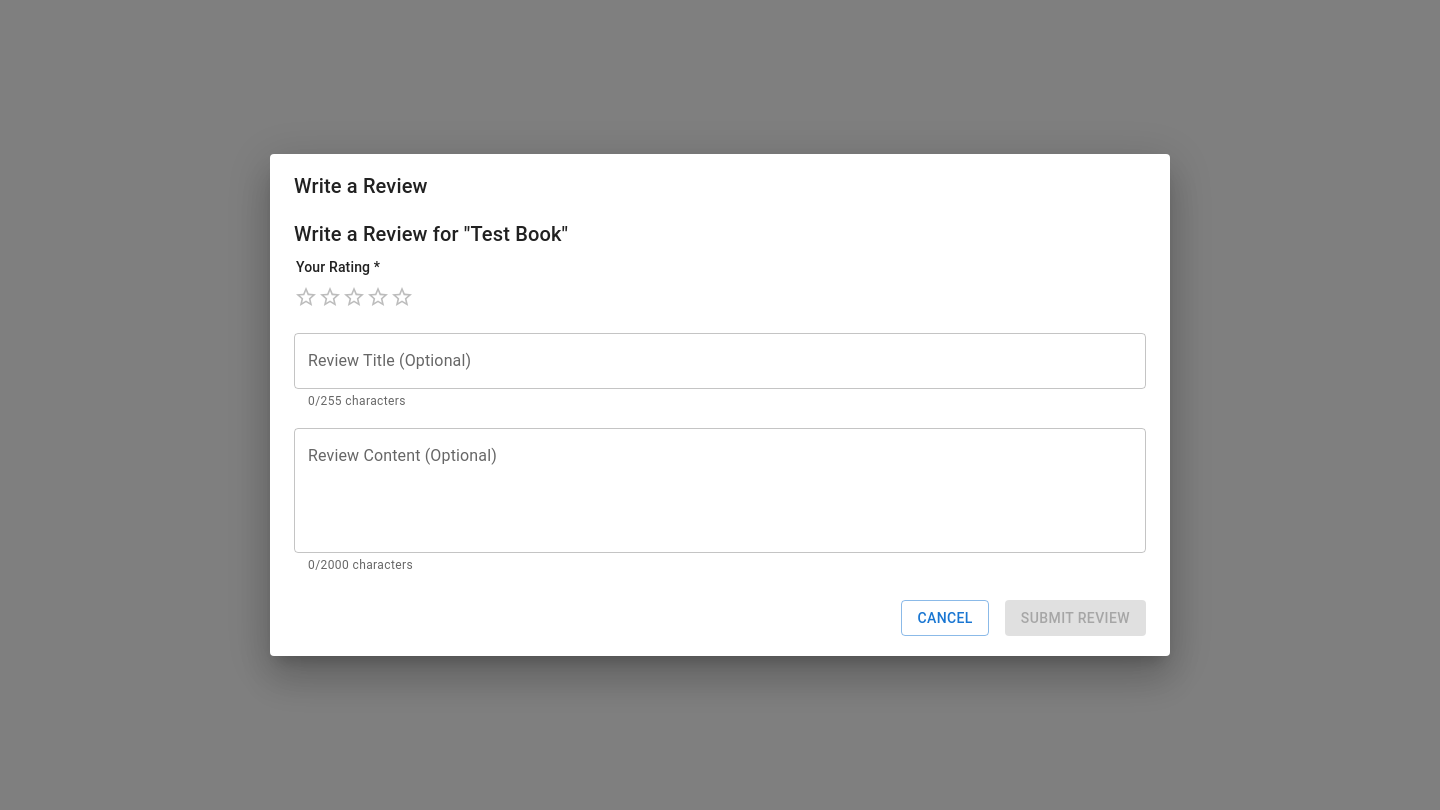
Scenario: ReviewForm Component › Form Submission › should handle API errors
The width and height of the screenshot is (1440, 810).
Note: Fill out minimal form
Click the 5th radio button: (402, 297) left=390, top=285, right=414, bottom=309
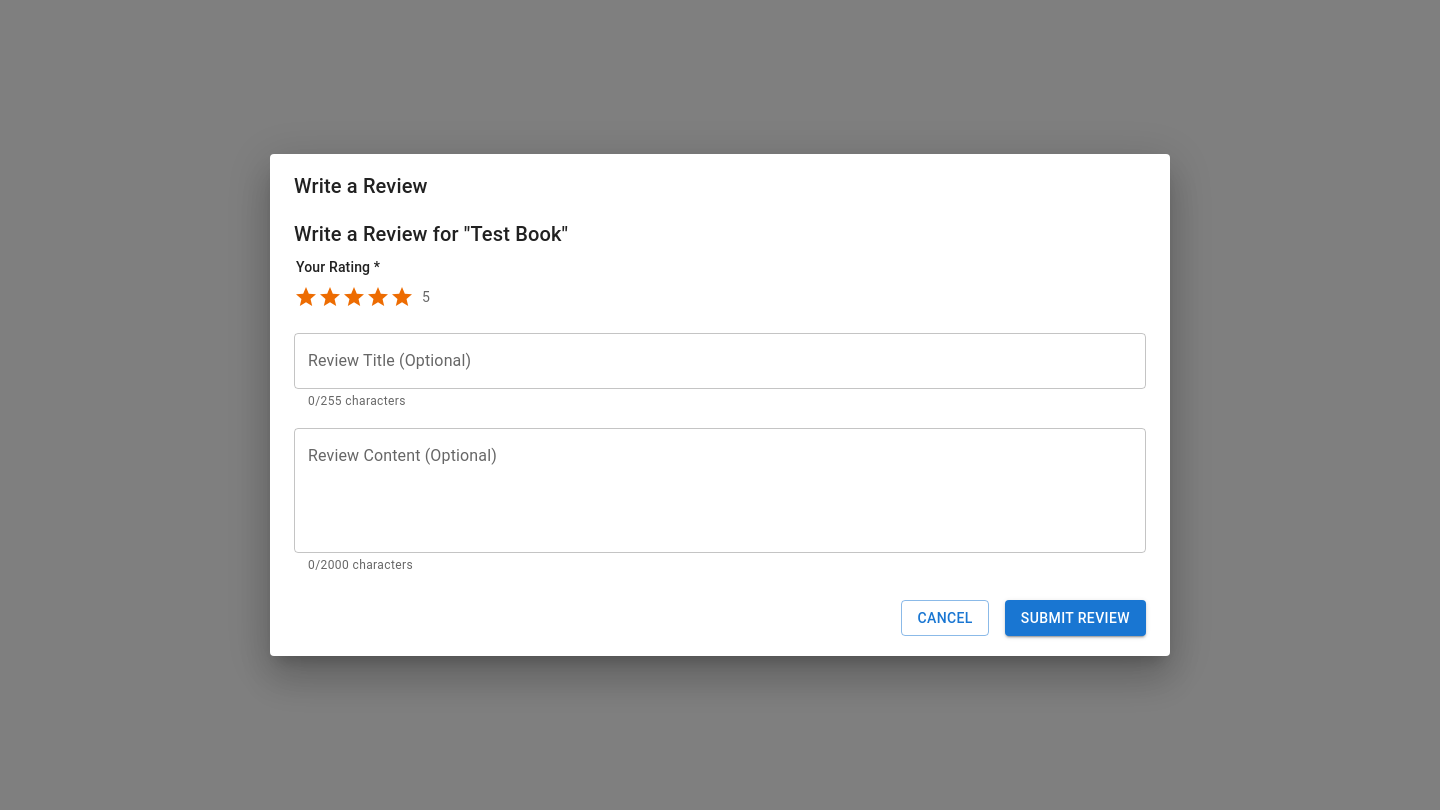
Note: Submit form
Click the button "Submit Review": (1075, 618) left=1005, top=600, right=1146, bottom=636
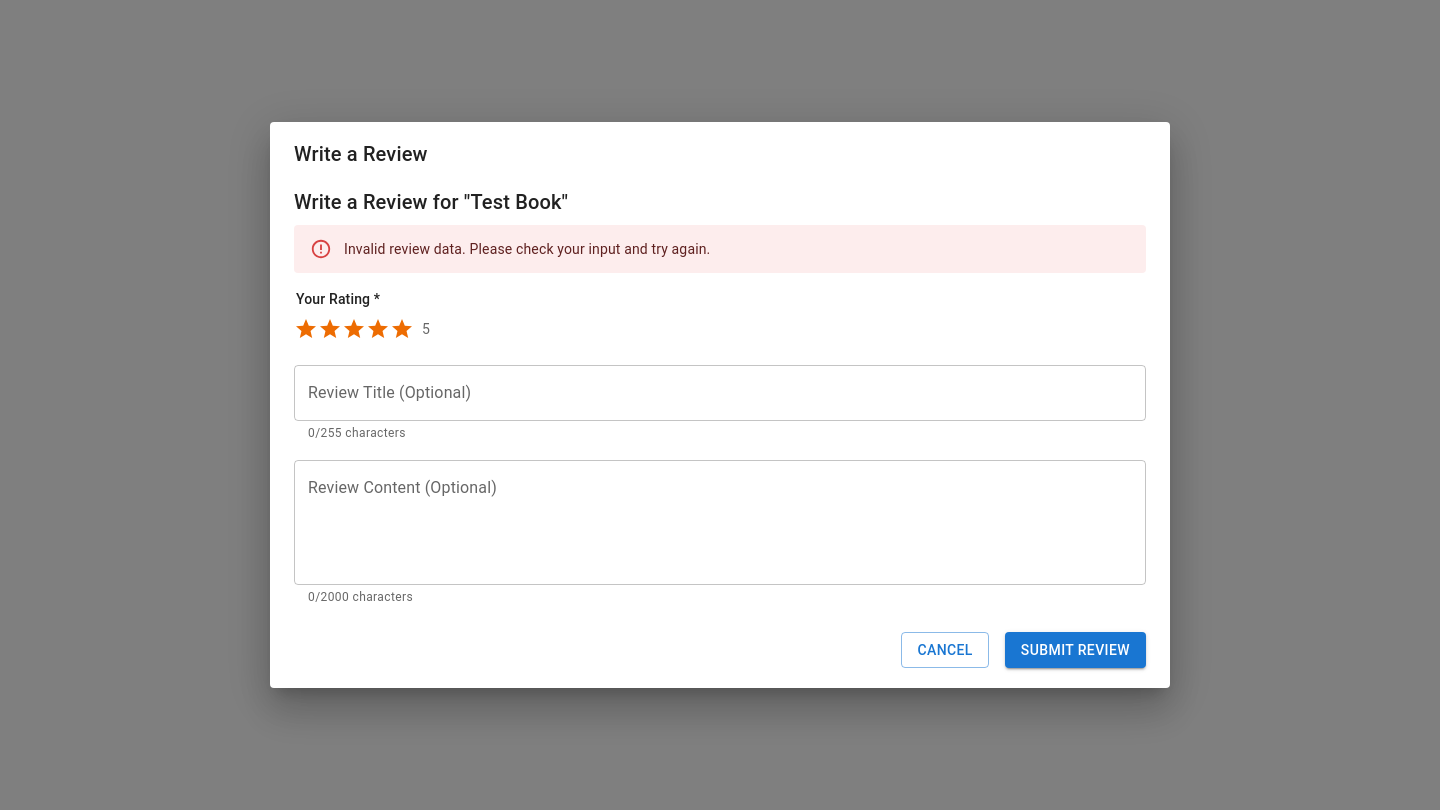
Expected: the text "Invalid review data. Please check your input and try again." is shown, left=344, top=241, right=710, bottom=257
